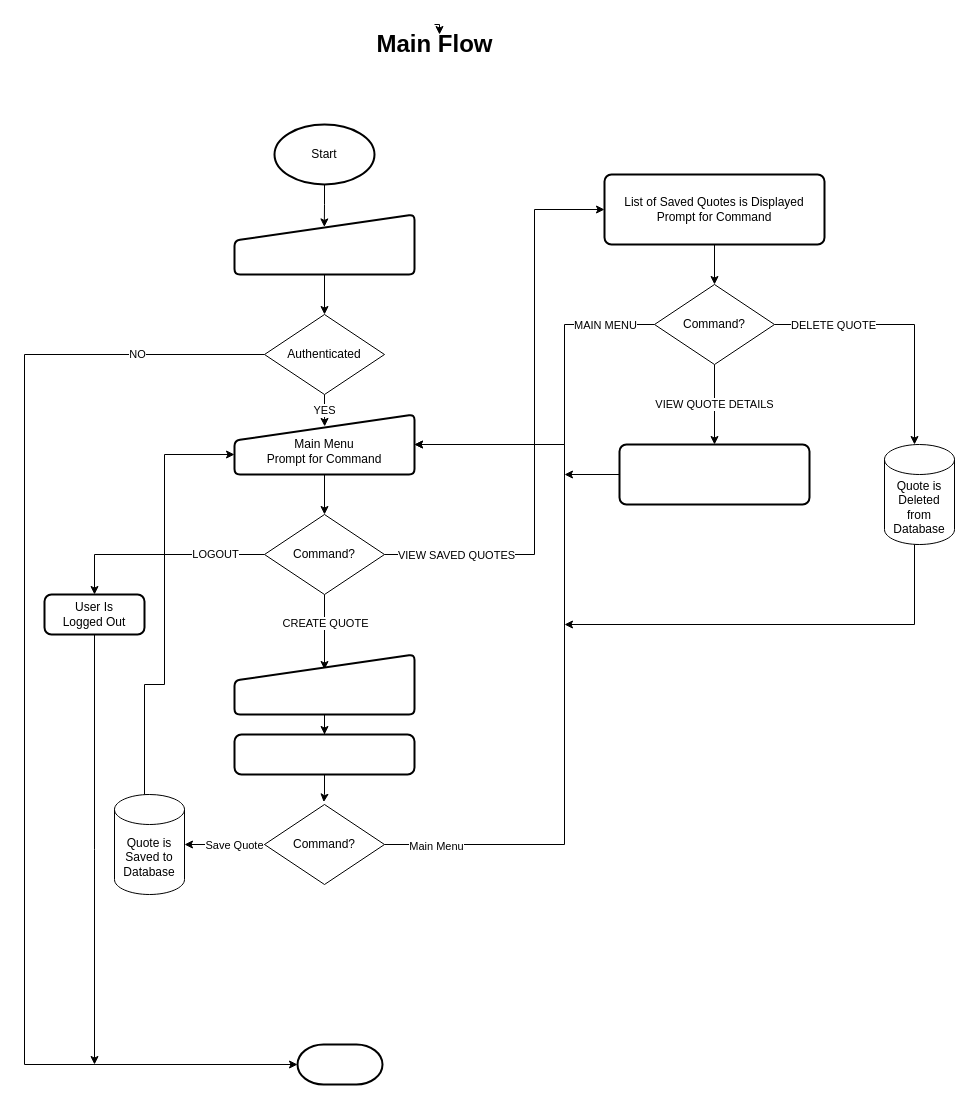
Image size: 972x1103. Some labels were removed from this diagram. The centre of each missing label's shape, as x and y in pixels:
Details of selected Quote are displayed: pixel 714 474
End: pixel 339 1064
Enter Selection for Quote: pixel 324 684
Log In: pixel 324 244
Quote Details are Displayed Prompt for Command: pixel 324 754
